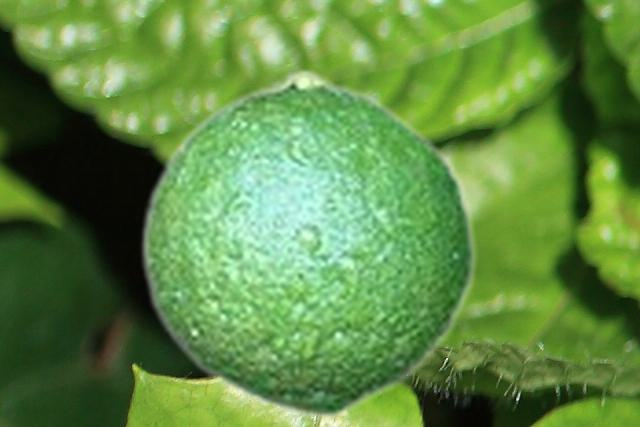dalandan: (137, 67, 477, 419)
